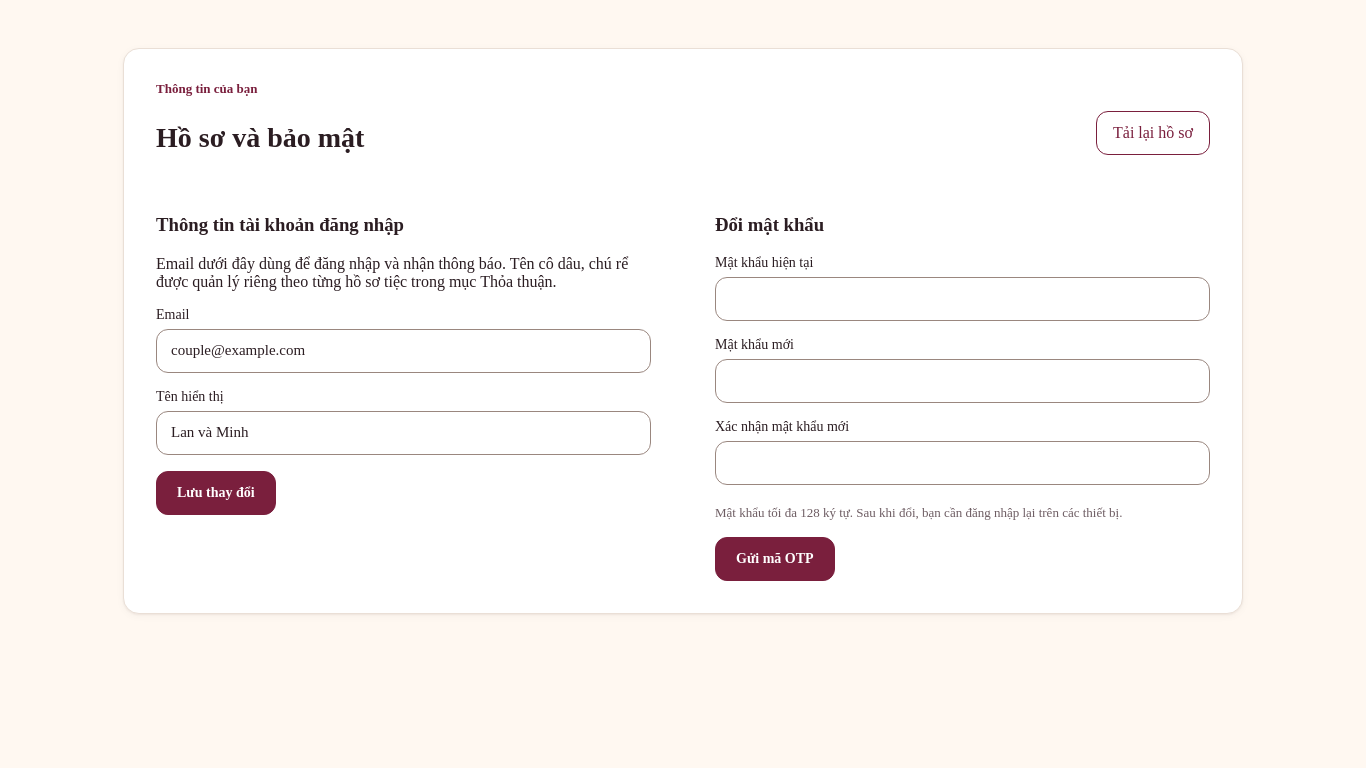
Test case: account password OTP errors › also applies the server wait when resending an existing challenge
Type "Initial-password-123" into the password field labelled "Mật khẩu hiện tại" at (962, 299), box [715,277,1210,321]
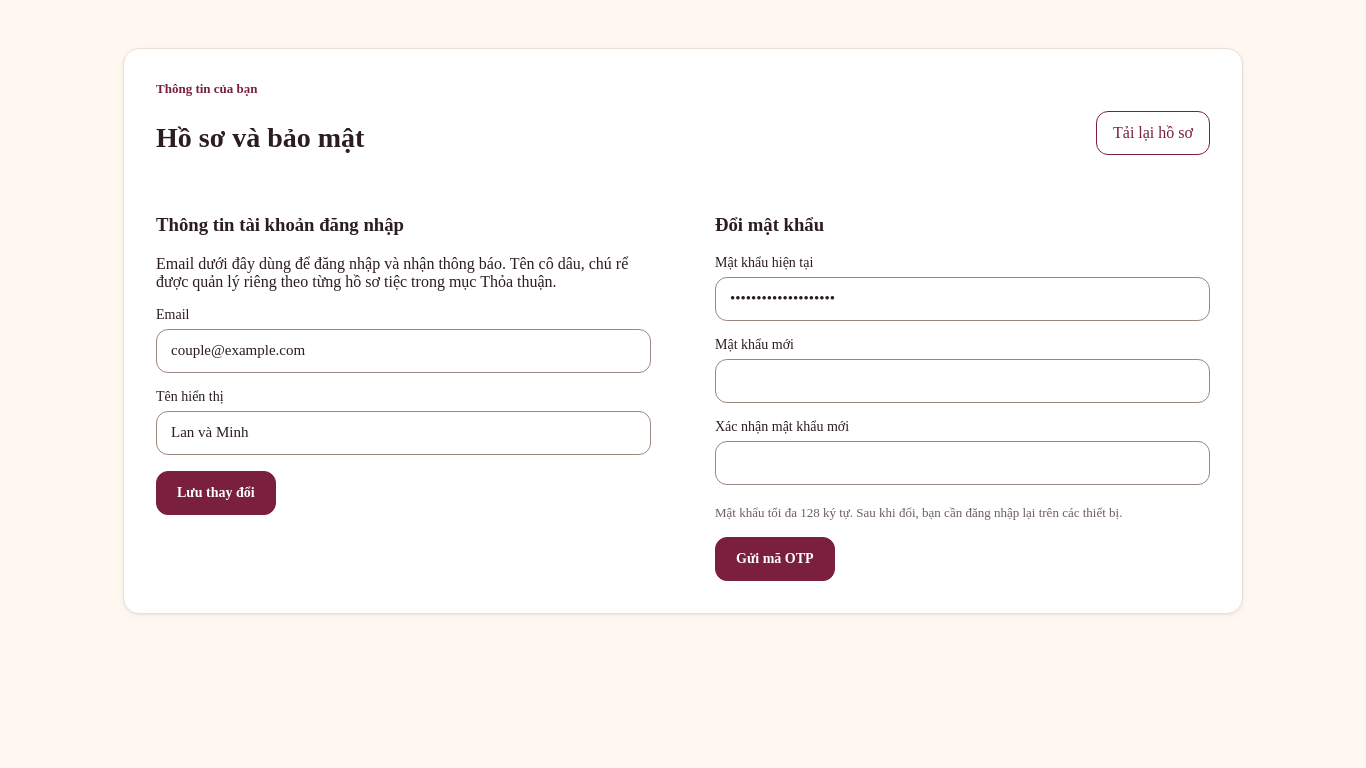
Type "Replacement-password-123" into the password field labelled "Mật khẩu mới" at (962, 381), box [715,359,1210,403]
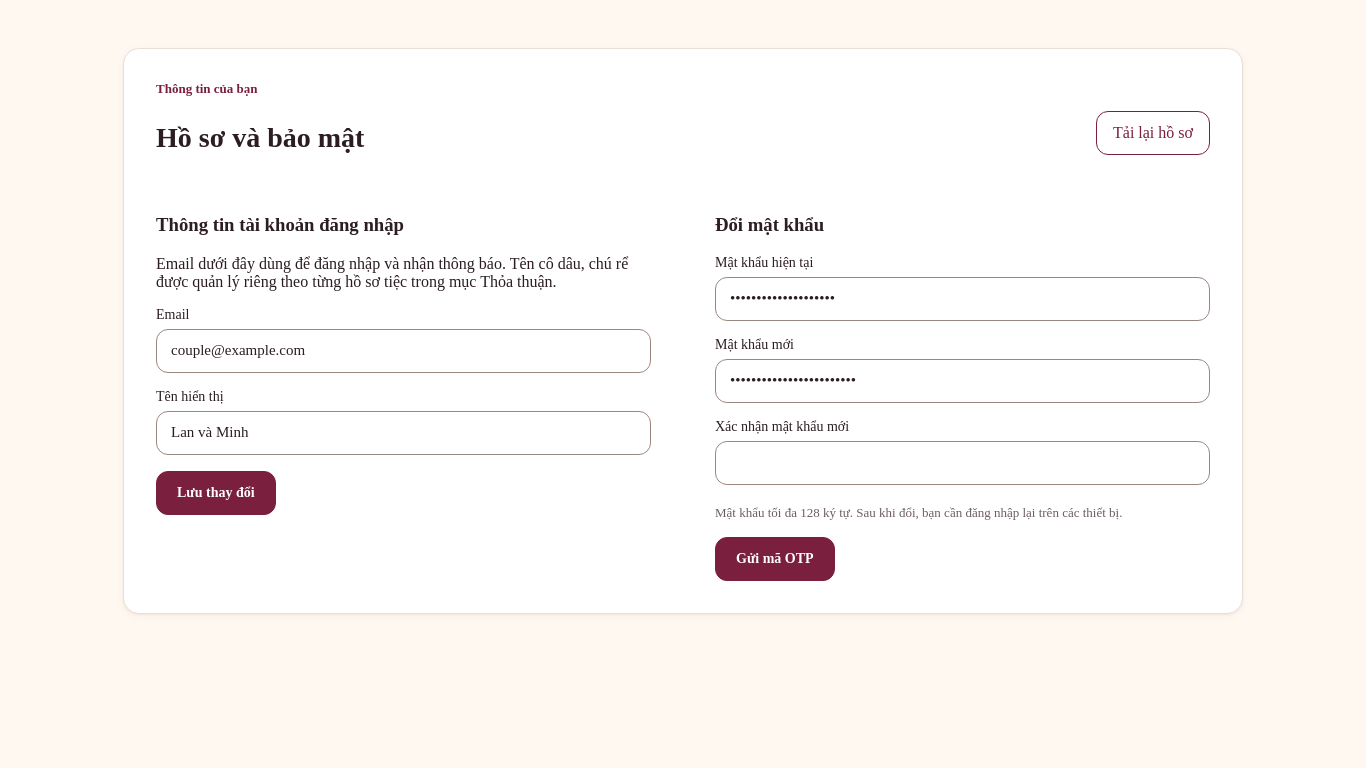
Type "Replacement-password-123" into the password field labelled "Xác nhận mật khẩu mới" at (962, 463), box [715,441,1210,485]
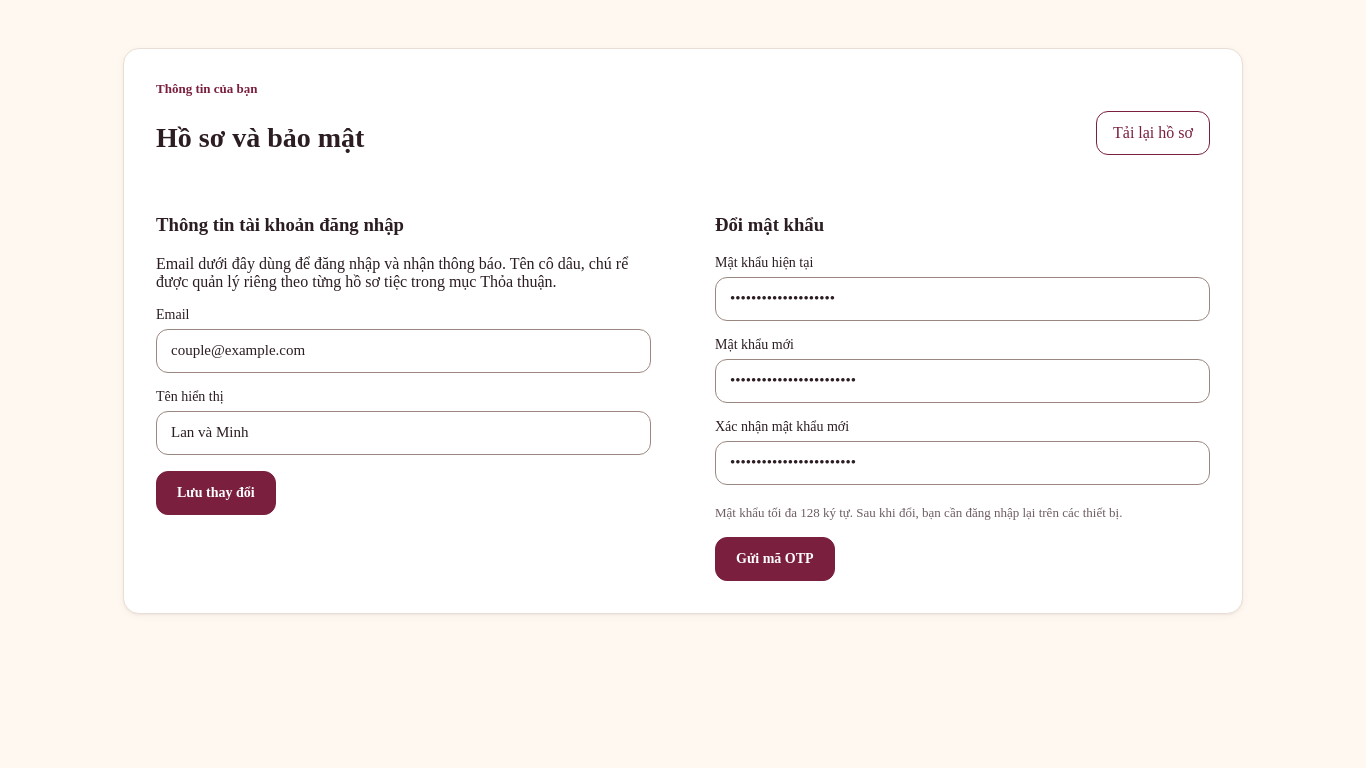
Click the button "Gửi mã OTP" at (775, 559), box [715,537,835,581]
Wait 60000 ms
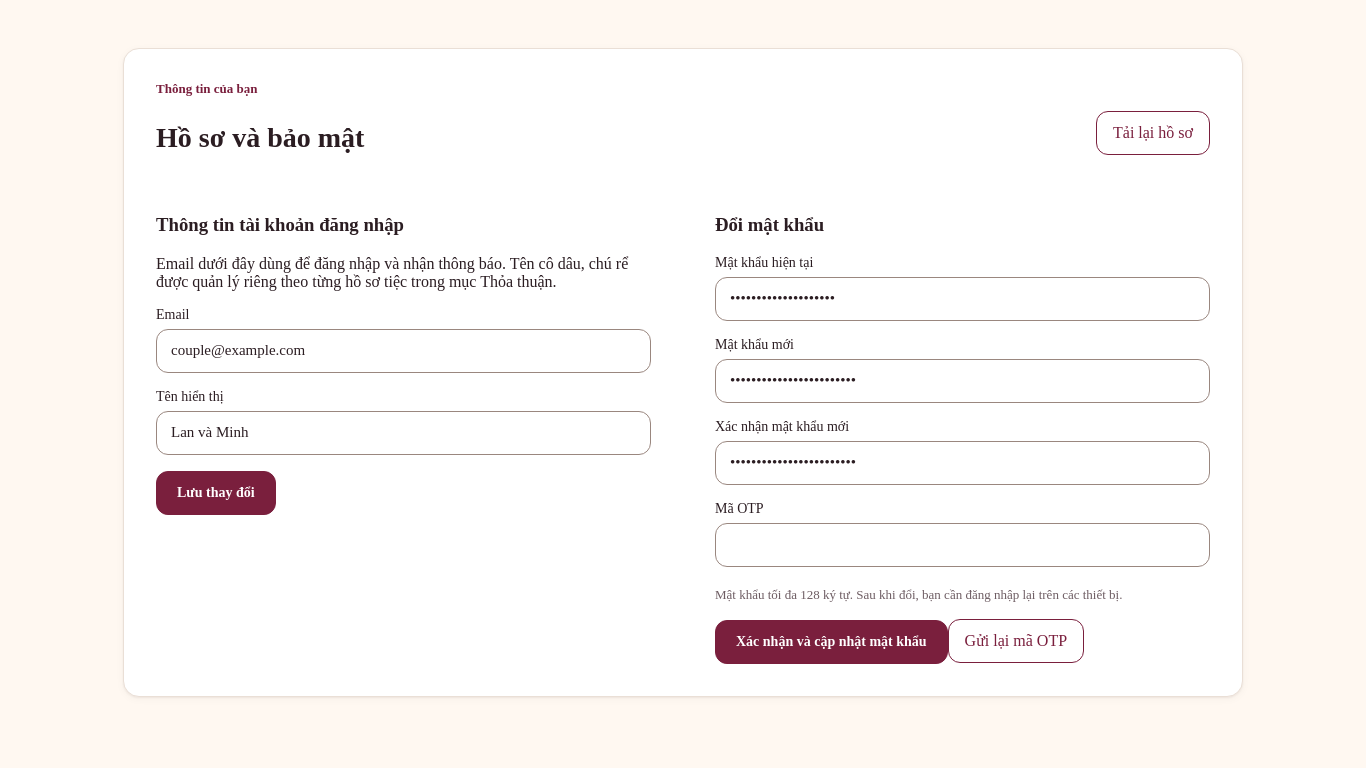
expect the field labelled "Mã OTP" is shown: met, box [715,523,1210,567]
Click the button "Gửi lại mã OTP" at (1016, 641), box [948,619,1084,663]
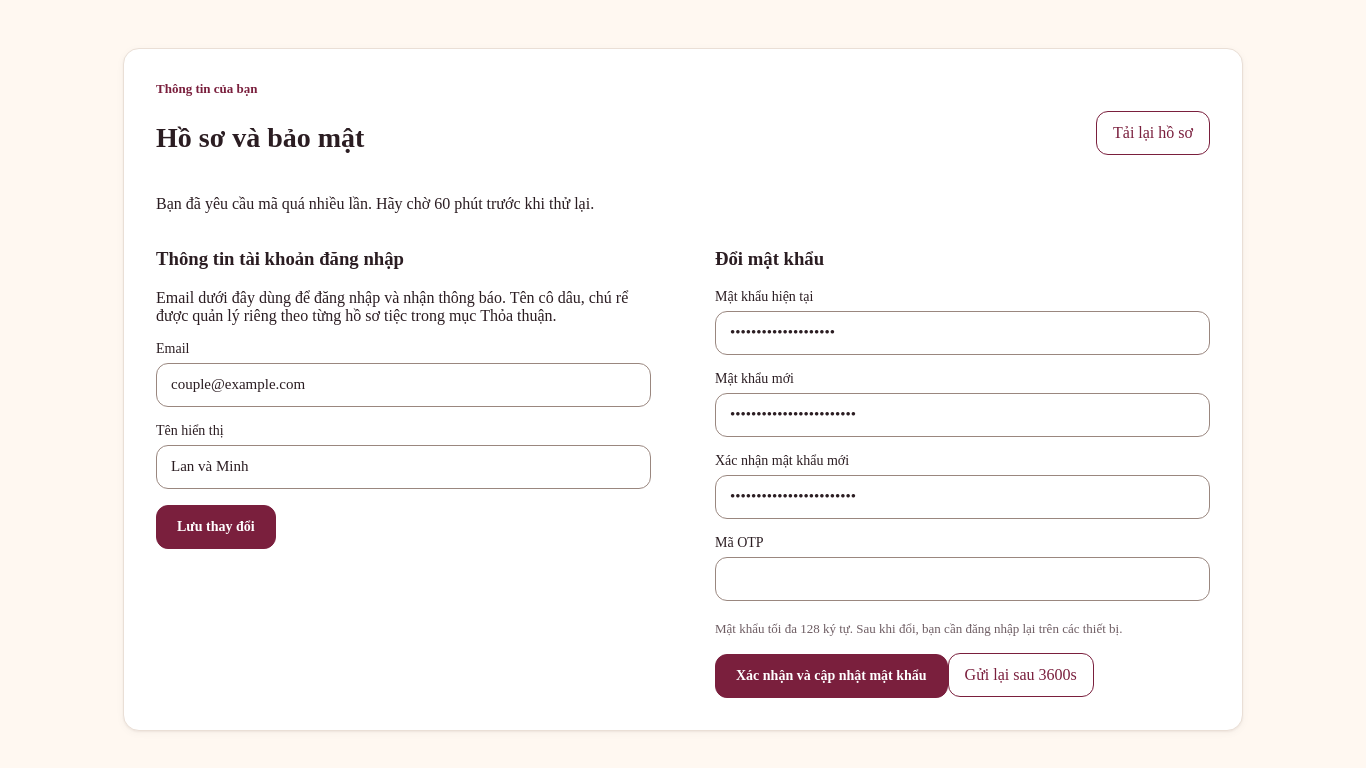
expect the button "Xác nhận và cập nhật mật khẩu" is enabled: met, box [715,654,948,698]
expect the message shows "Hãy chờ 60 phút": met, box [156,195,594,212]
expect the button "Gửi lại sau 3600s" is disabled: met, box [948,653,1094,697]
